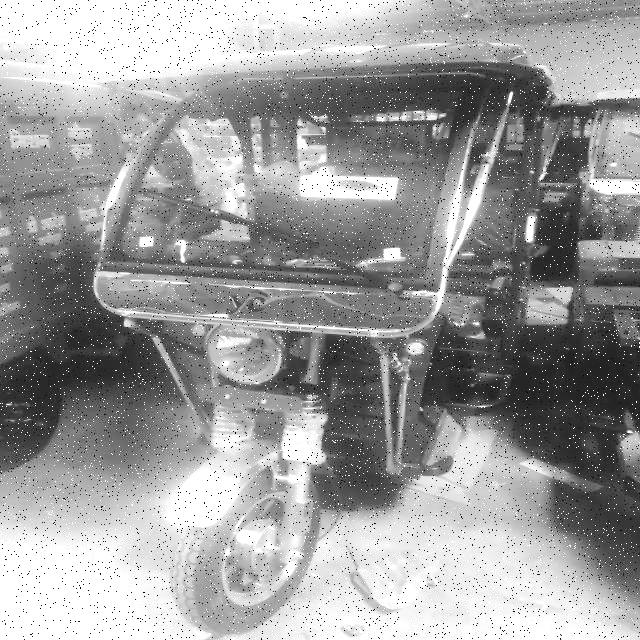Toto: (102, 38, 533, 621)
